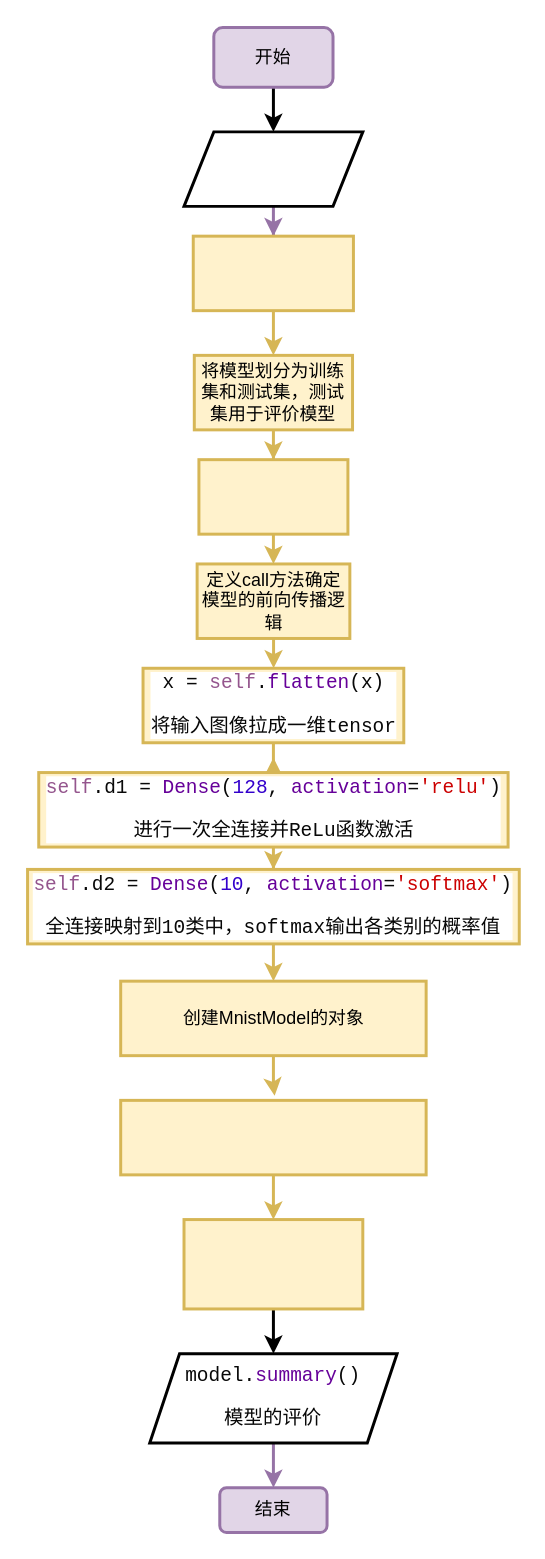
Image size: 545x1559. Some labels were removed from this diagram. Here are the shapes that lost their labels. From the top down, the box of each, then its label:
(182, 130, 364, 207): 导入tensor框 架所需包
(191, 234, 354, 311): 下载fashion_mnist数据集
(197, 457, 349, 535): 将图像的像素点归一化的[0, 1]区间内
(118, 1098, 427, 1176): 使用compile方法配置模型的损失函数，优化器和评估指标
(182, 1217, 364, 1310): 传入batch_size、epochs等超参数开始模型训练
